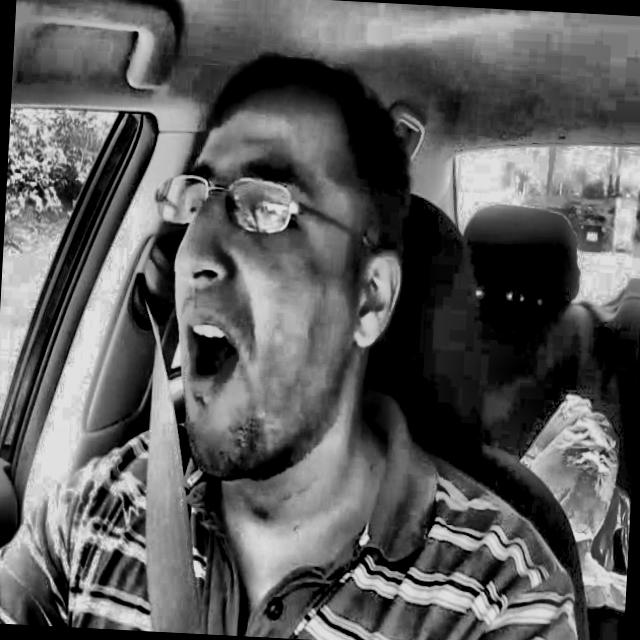open_mouth: (166, 301, 262, 422)
